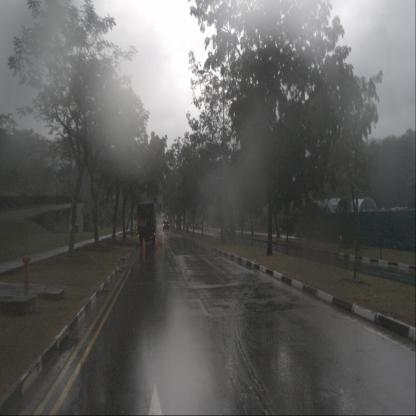cone: (142, 238, 146, 250), (154, 237, 158, 248), (158, 235, 162, 246), (157, 234, 160, 246), (160, 236, 163, 247)
